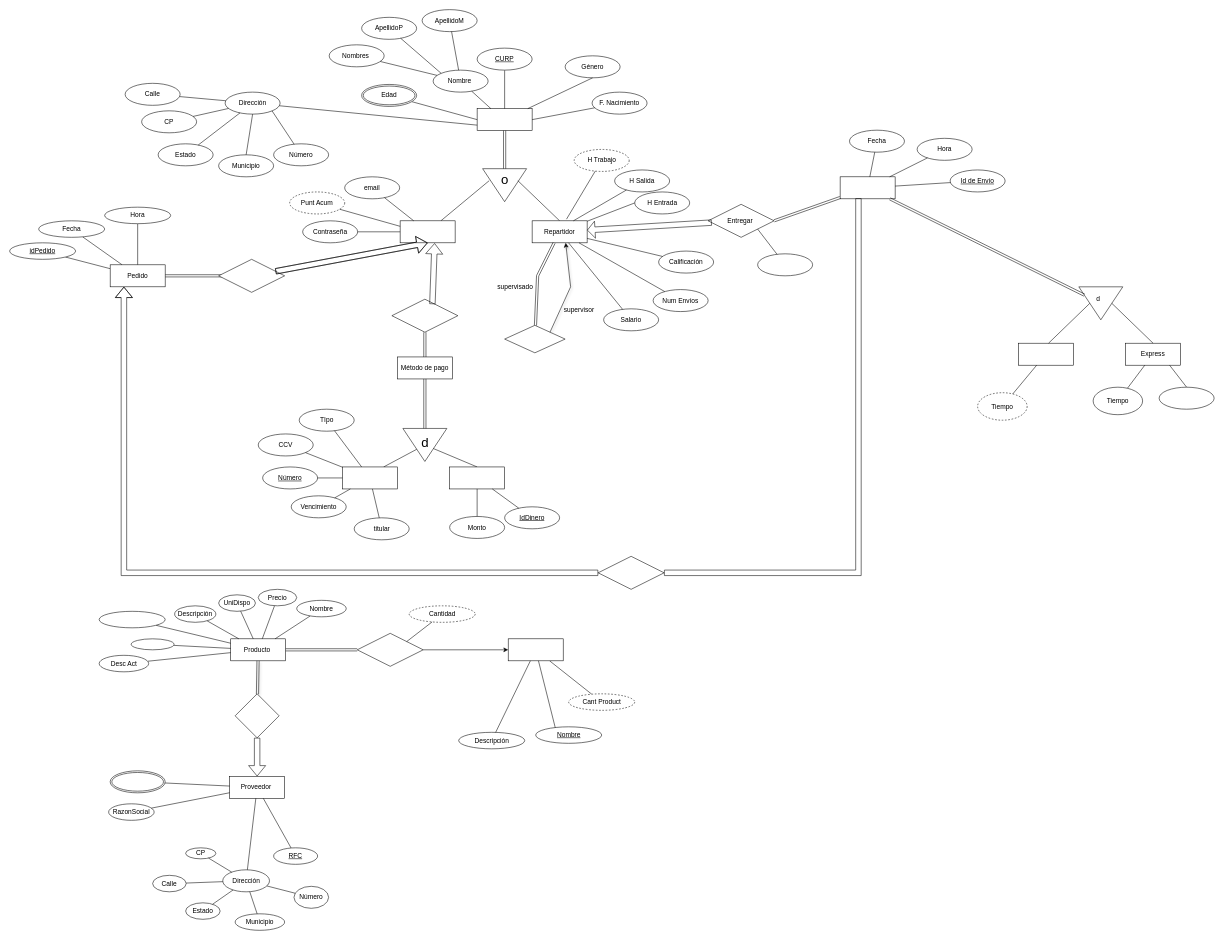
Image size: 1224x940. Some labels were removed from this diagram. The shapes that lost their labels are listed below. From the top down, each one's centre as x and y in pixels, then its label:
At point 504,119: "Persona".
At point 867,187: "Envío".
At point 427,231: "Cliente".
At point 251,275: "Realizar".
At point 785,264: "Estatus".
At point 424,315: "Tener".
At point 534,339: "Supervisar".
At point 1045,354: "Normal".
At point 1186,398: "Costo Extra".
At point 369,477: "Tarjeta".
At point 477,477: "Efectivo".
At point 631,572: "Distribuir".
At point 132,619: "idProducto".
At point 152,644: "Nom Arch".
At point 390,649: "Pertenecer".
At point 535,649: "Categoría".
At point 257,715: "Ofrecer".
At point 137,781: "teléfono".
